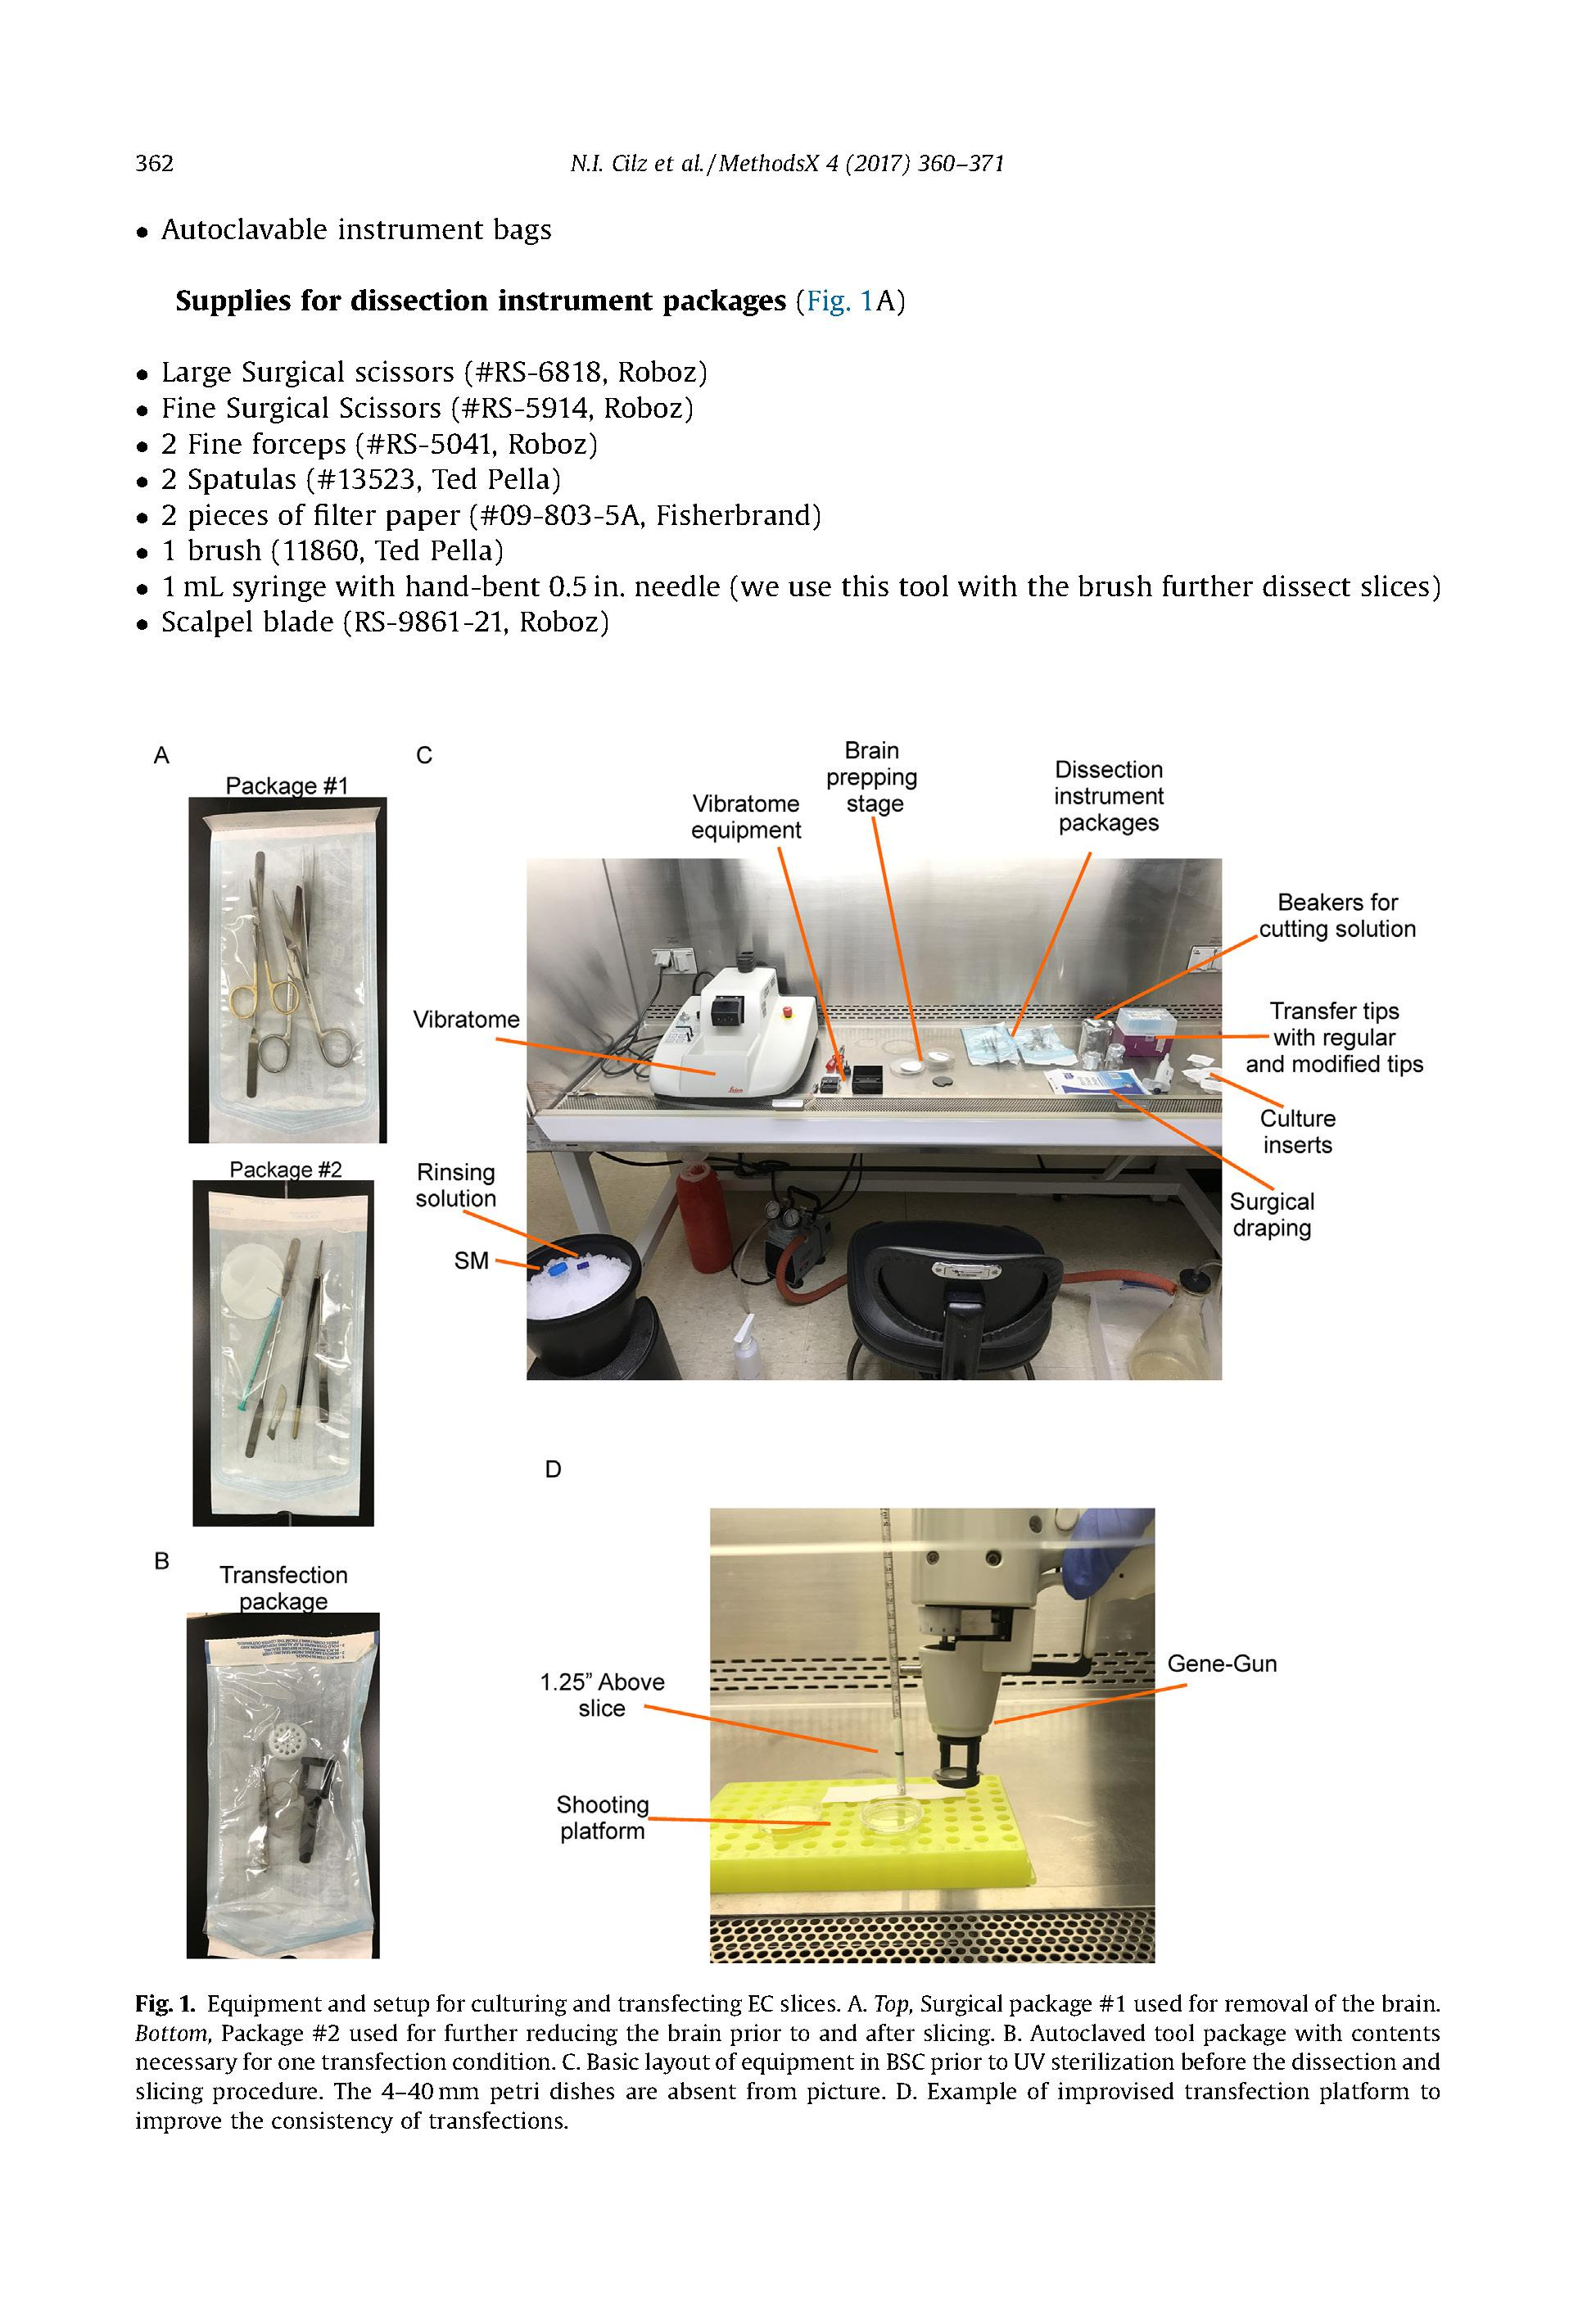paper: (41, 21, 1596, 2322)
